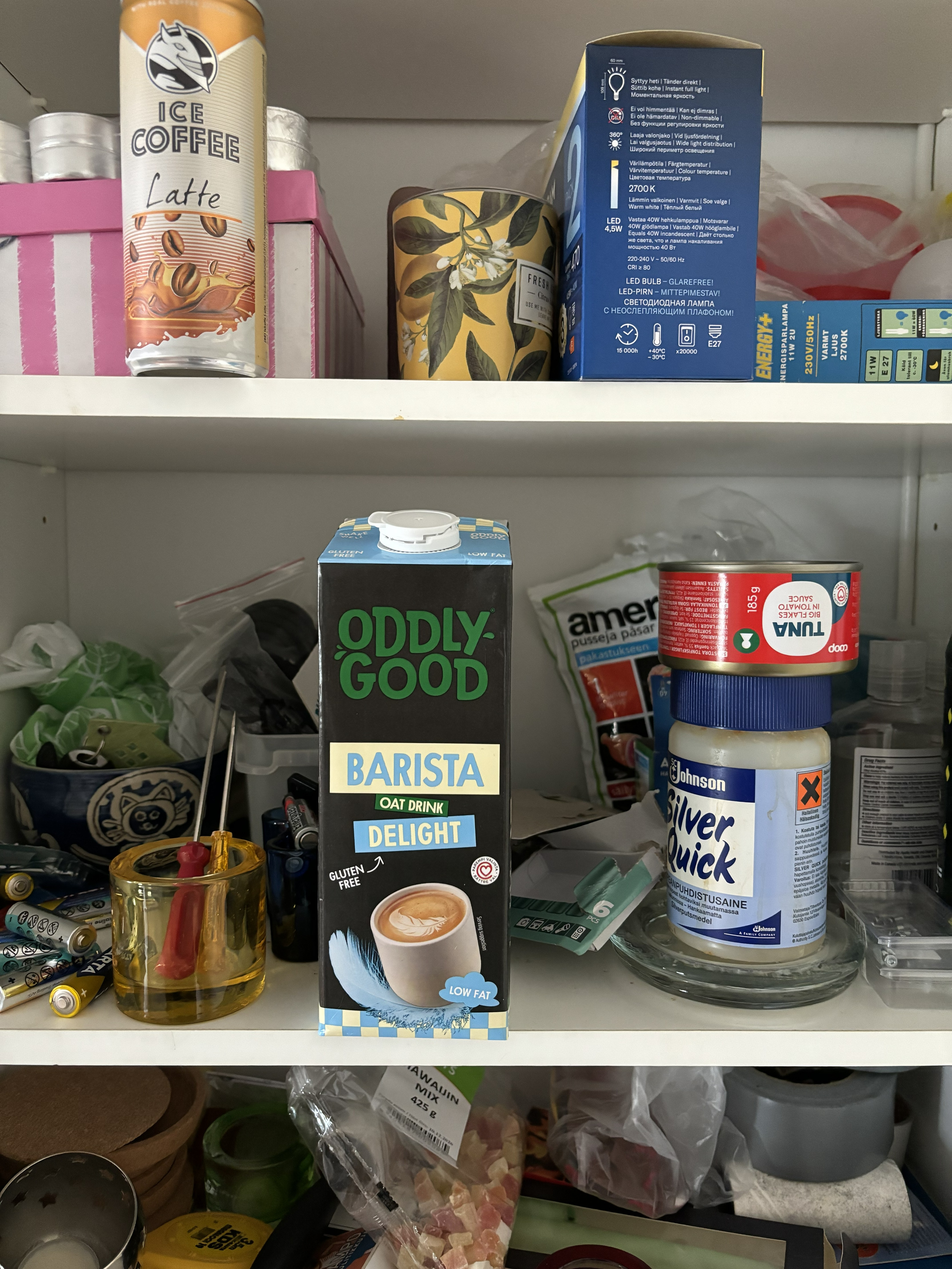Dryckeskartong: (313, 503, 516, 1038)
Konservburk: (655, 556, 867, 684)
Pantburk: (115, 0, 266, 378)
